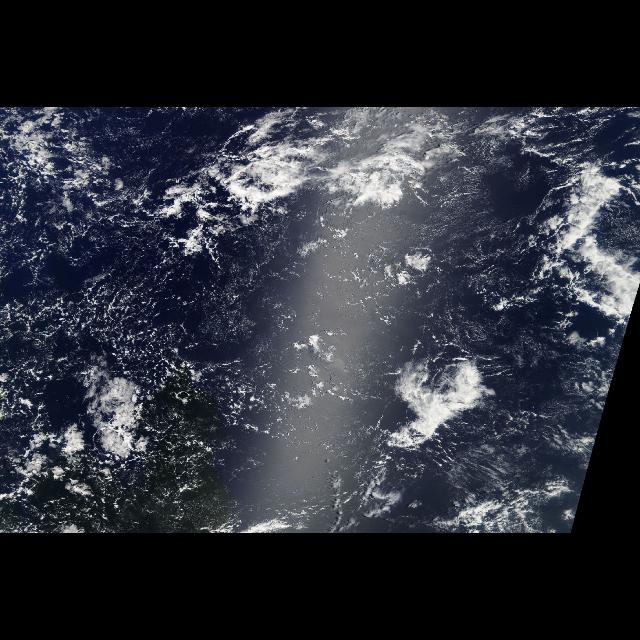Gravel: (2, 207, 304, 528)
Sugar: (346, 116, 532, 340)
